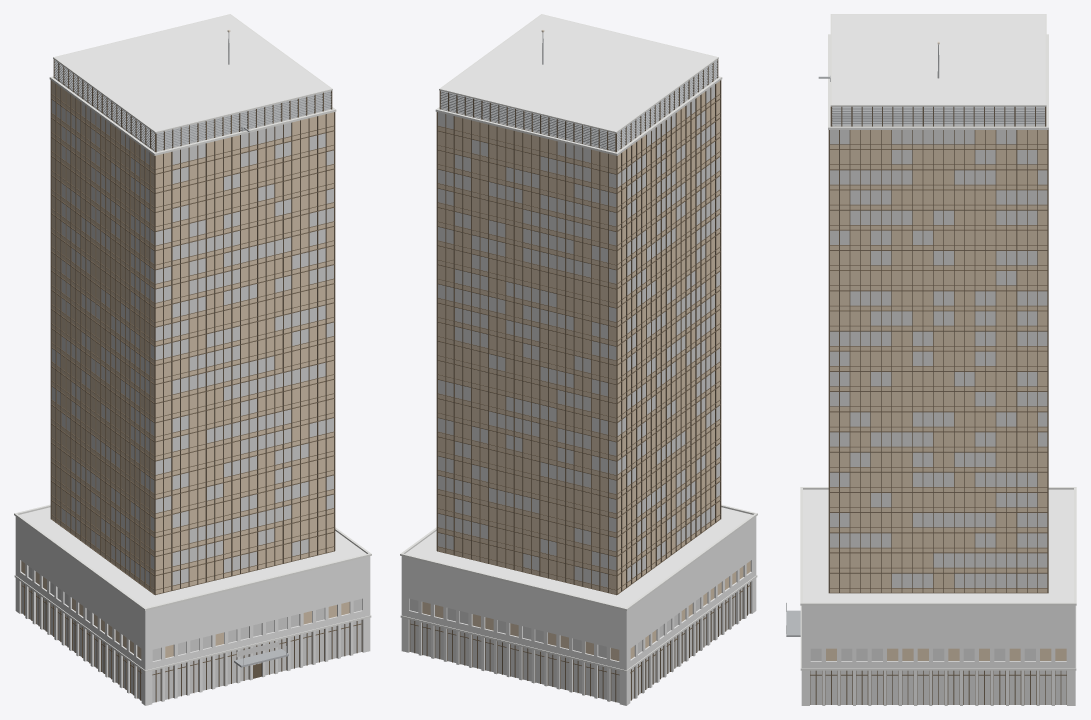
The model's file is tower_hero375.glb.
3 views of the same model, side by side, from view 1: azimuth 30°, elevation 25°; view 2: azimuth 150°, elevation 25°; view 3: azimuth 270°, elevation 25° (orthographic). The views are drawn at different scales.
Parts seen in each view (by area): view 1: tower_hero375_Glass, tower_hero375_Frames, tower_hero375_WindowsLit, tower_hero375_Walls2, tower_hero375_Roof, tower_hero375_Trim, tower_hero375_Details; view 2: tower_hero375_Glass, tower_hero375_Frames, tower_hero375_WindowsLit, tower_hero375_Walls2, tower_hero375_Roof, tower_hero375_Trim, tower_hero375_Details; view 3: tower_hero375_Glass, tower_hero375_WindowsLit, tower_hero375_Frames, tower_hero375_Roof, tower_hero375_Walls2, tower_hero375_Trim, tower_hero375_Details.
Part boxes in pixels (<box>): tower_hero375_Glass: <box>21,81,349,658</box>; tower_hero375_Frames: <box>21,59,362,702</box>; tower_hero375_WindowsLit: <box>22,100,362,702</box>; tower_hero375_Walls2: <box>15,516,370,705</box>; tower_hero375_Roof: <box>19,14,366,607</box>; tower_hero375_Trim: <box>14,14,371,672</box>; tower_hero375_Details: <box>54,32,331,665</box>; tower_hero375_Glass: <box>422,81,750,661</box>; tower_hero375_Frames: <box>409,59,750,702</box>; tower_hero375_WindowsLit: <box>409,85,749,702</box>; tower_hero375_Walls2: <box>401,516,756,705</box>; tower_hero375_Roof: <box>405,14,752,607</box>; tower_hero375_Trim: <box>400,14,757,672</box>; tower_hero375_Details: <box>440,32,717,150</box>; tower_hero375_Glass: <box>826,130,1066,660</box>; tower_hero375_WindowsLit: <box>810,130,1066,704</box>; tower_hero375_Frames: <box>810,106,1066,704</box>; tower_hero375_Roof: <box>803,14,1073,602</box>; tower_hero375_Walls2: <box>801,605,1075,705</box>; tower_hero375_Trim: <box>800,14,1076,670</box>; tower_hero375_Details: <box>786,44,1044,634</box>.
Size of the model in its own units: 161 by 403 by 170.
